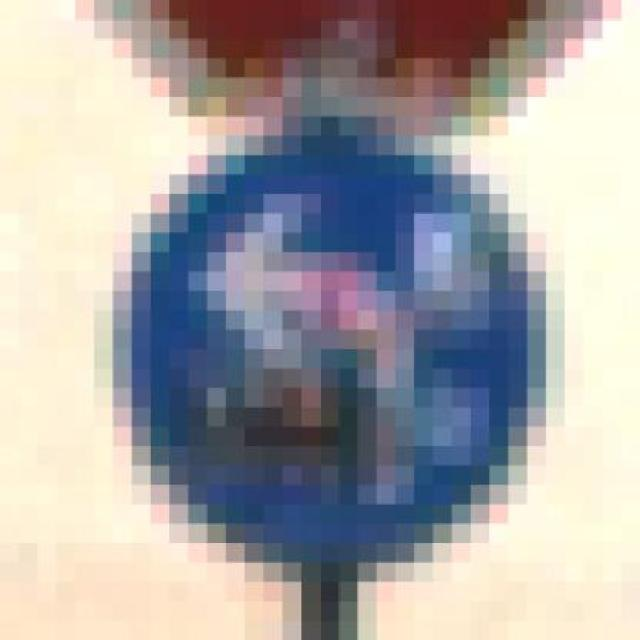Turn left ahead: (106, 98, 576, 564)
